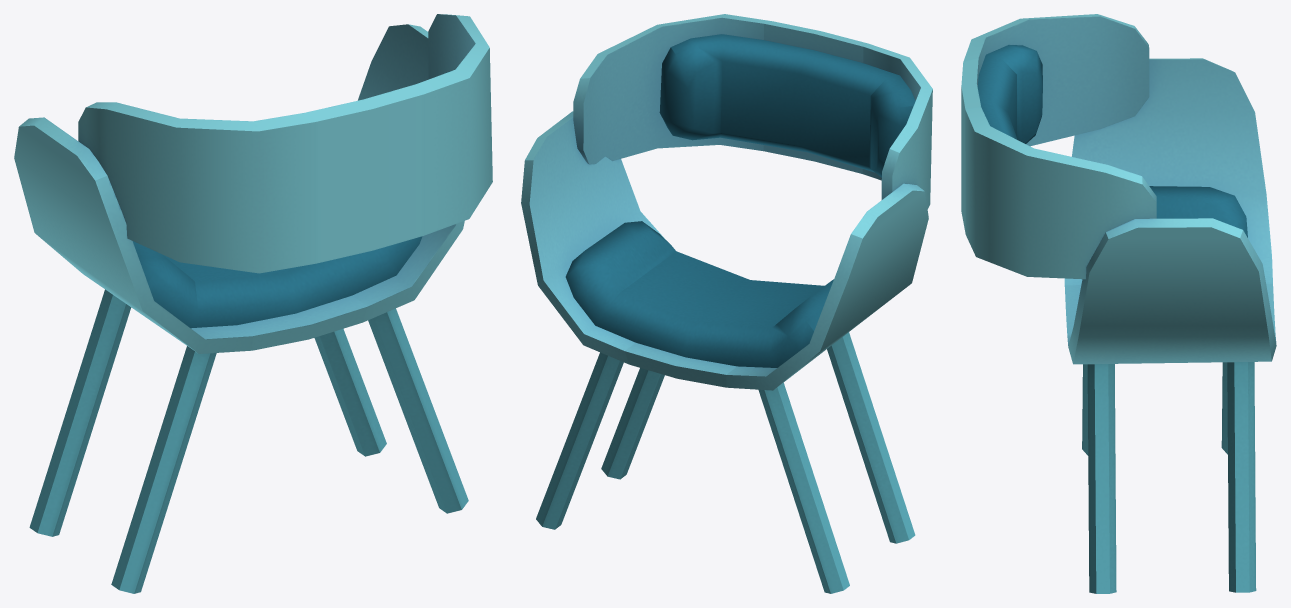
Rendered from chair02 03.fbx.
The picture shows the model from 3 angles, left to right: view 1: azimuth 30°, elevation 25°; view 2: azimuth 150°, elevation 25°; view 3: azimuth 270°, elevation 25°; orthographic projection. The views are drawn at different scales.
Visible parts, largest first — view 1: polySurface172; view 2: polySurface172; view 3: polySurface172.
Boxes of the visible parts, left/top/right/bottom form: polySurface172: left=14, top=14, right=492, bottom=593; polySurface172: left=521, top=14, right=932, bottom=593; polySurface172: left=961, top=14, right=1276, bottom=593.
Size of the model in its own units: 12.07 by 14.71 by 9.49.
1 material, 1 textured.
